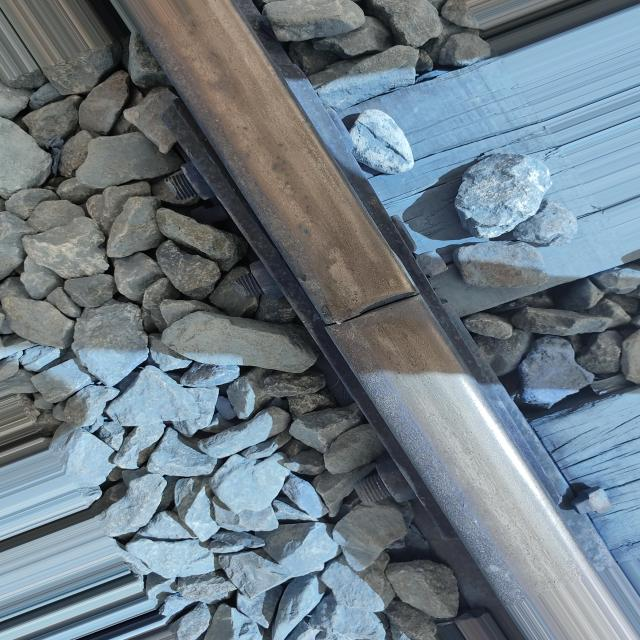crack: (312, 280, 447, 342)
